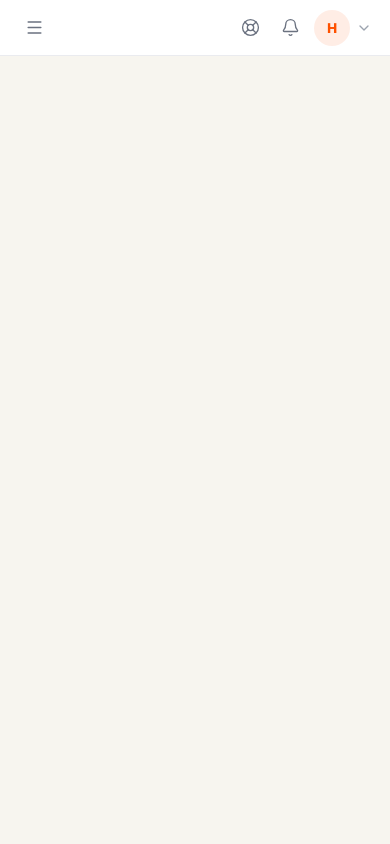
Test: mobile — popups + nav drawer › profile opens as a sheet with a Close control + account actions
The width and height of the screenshot is (390, 844).
Click the button named "Profile menu": coordinates (343, 28) [312, 6, 374, 50]
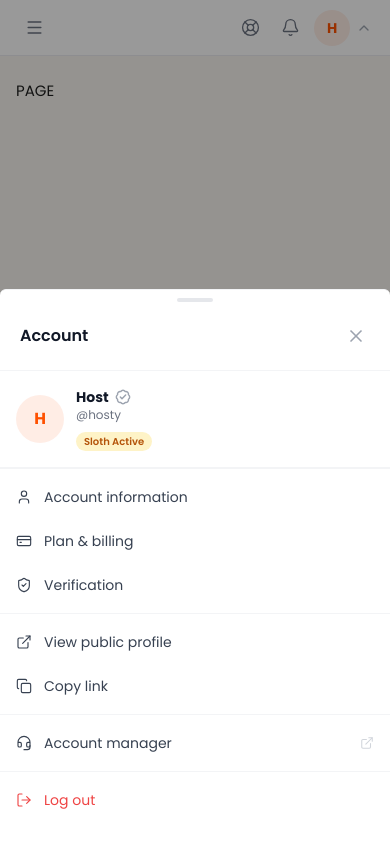
Expected: the button named "Close" is shown, [342, 314, 370, 358]
Expected: the text "View public profile" is shown, [44, 632, 172, 652]
Expected: the text "Log out" is shown, [44, 790, 95, 810]
